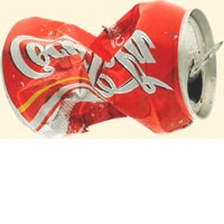can: (0, 1, 223, 137)
